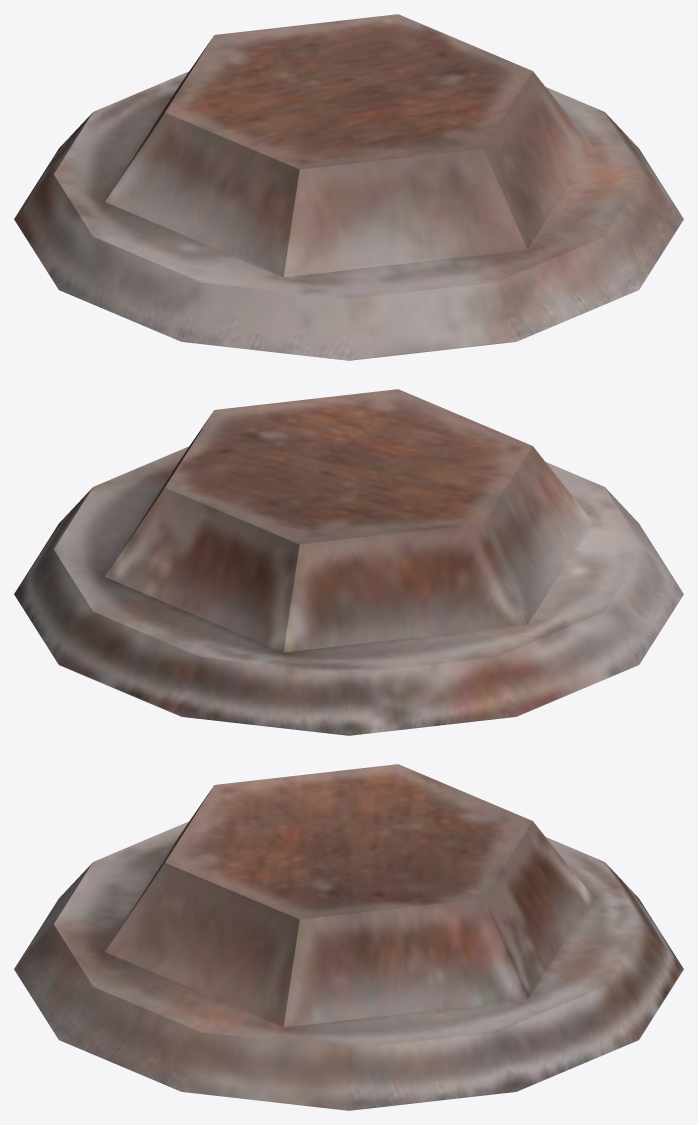
The model's file is stylized_pipe_19.glb.
3 renders of one model, top to bottom at view 1: azimuth 30°, elevation 25°; view 2: azimuth 150°, elevation 25°; view 3: azimuth 270°, elevation 25°, orthographic.
Visible parts, largest first — view 1: stylized_pipe_19; view 2: stylized_pipe_19; view 3: stylized_pipe_19.
Part boxes in pixels (<box>): stylized_pipe_19: <box>14,14,683,360</box>; stylized_pipe_19: <box>14,389,683,735</box>; stylized_pipe_19: <box>14,764,683,1110</box>.
Size of what is drawn, in the model's own units: 0.0832 by 0.0175 by 0.0832.
1 material, 1 textured.
